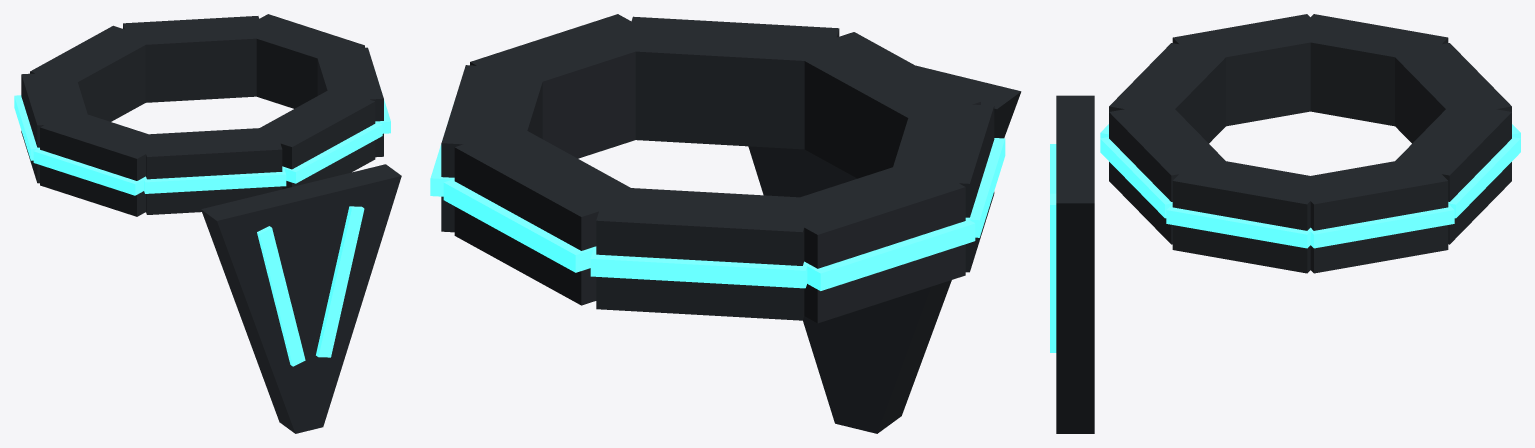
The model's file is mod_network_weave.glb.
3 views of the same model, side by side, from view 1: azimuth 30°, elevation 25°; view 2: azimuth 150°, elevation 25°; view 3: azimuth 270°, elevation 25° (orthographic). The views are drawn at different scales.
Visible parts, largest first — view 1: network_weave; view 2: network_weave; view 3: network_weave.
Boxes of the visible parts, left/top/right/bottom form: network_weave: left=14, top=14, right=401, bottom=433; network_weave: left=430, top=14, right=1021, bottom=433; network_weave: left=1050, top=14, right=1520, bottom=433.
Size of the model in its own units: 0.3686 by 0.275 by 0.3706.
